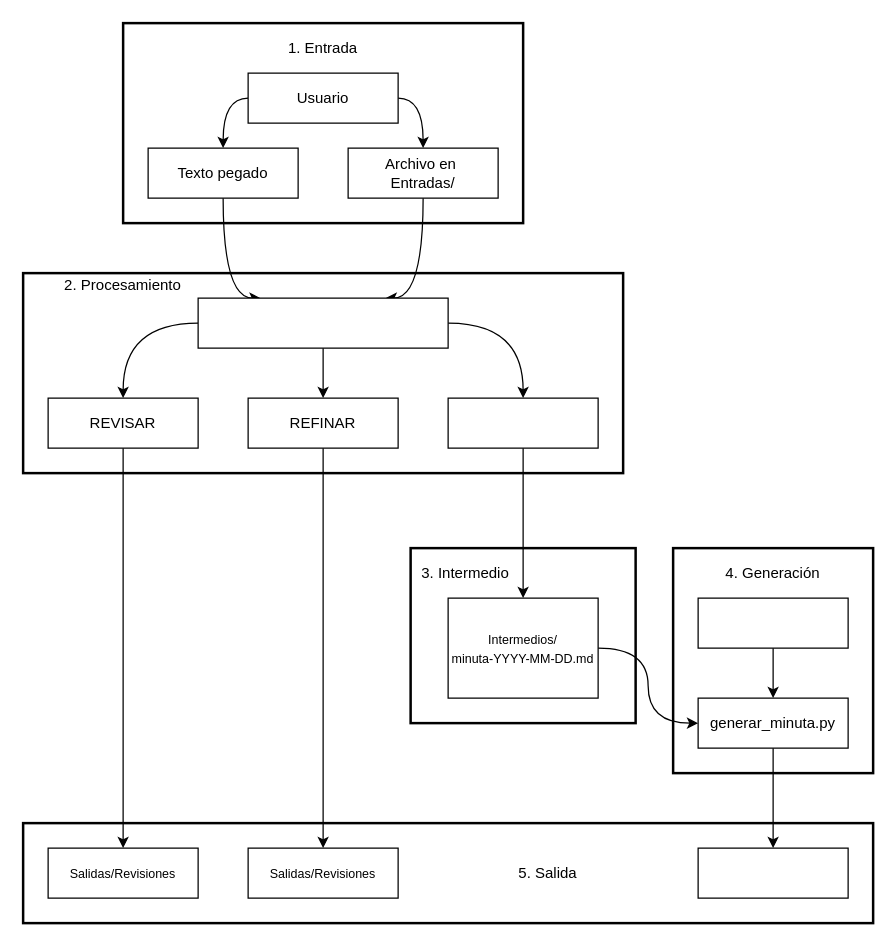
Image size: 895x945. Some labels were removed from this diagram. The shapes that lost their labels are listed below. From the top down, each one's box as (x1, y1, x2, y2) in pixels, then its label:
(197, 297, 448, 348): GitHub Copilot + SKILL.md
(447, 397, 598, 448): GENERAR
(697, 597, 848, 648): Plantilla/minuta.docx
(697, 847, 848, 898): Salidas/Documentos/ minuta-YYYY-MM-DD.docx
